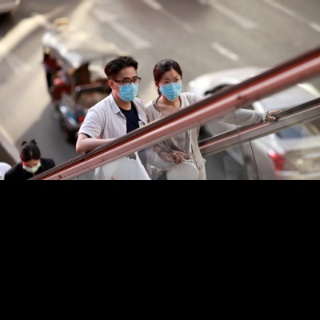with_mask: (114, 74, 140, 100), (158, 77, 183, 100), (22, 160, 41, 172)
